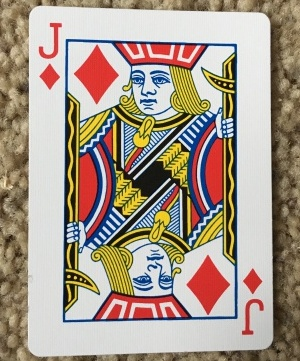card: (25, 5, 274, 356)
